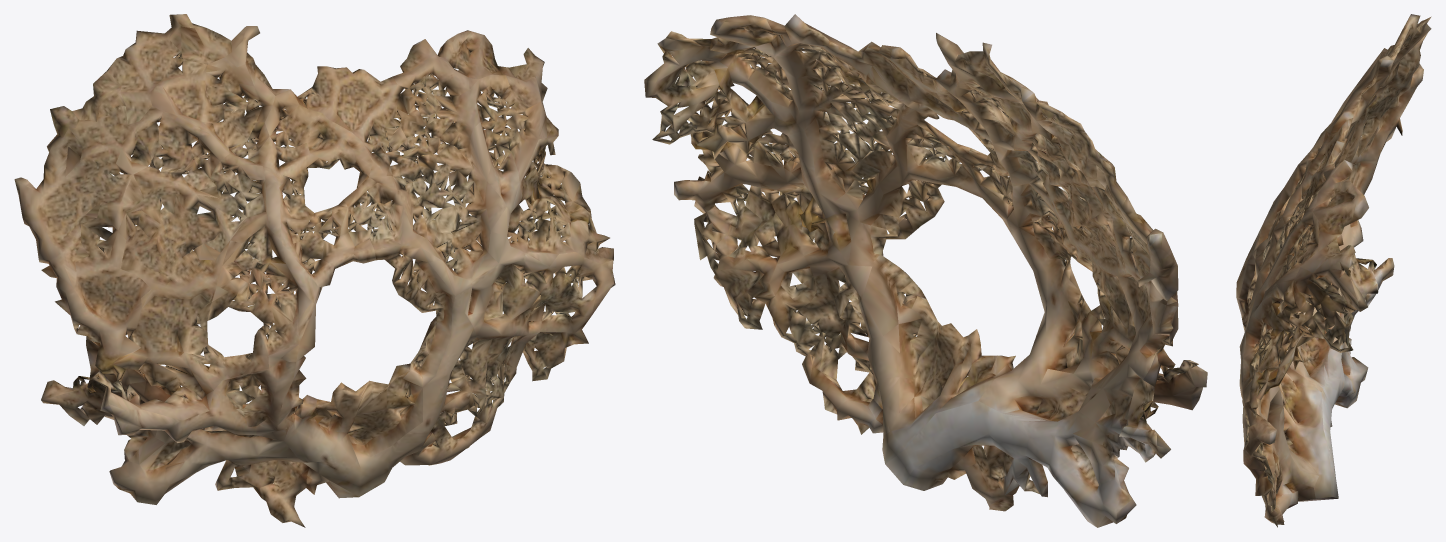
The model's file is usnm_1122454-150k.obj.
3 views of the same model, side by side, from view 1: azimuth 30°, elevation 25°; view 2: azimuth 150°, elevation 25°; view 3: azimuth 270°, elevation 25° (orthographic). The views are drawn at different scales.
Parts seen in each view (by area): view 1: usnm_1122454-150k; view 2: usnm_1122454-150k; view 3: usnm_1122454-150k.
Part boxes in pixels (box(x1,y1,x2,y2)): usnm_1122454-150k: box(14, 14, 615, 527); usnm_1122454-150k: box(644, 14, 1207, 527); usnm_1122454-150k: box(1236, 14, 1431, 527).
Size of the model in its own units: 0.2437 by 0.2154 by 0.0836.
